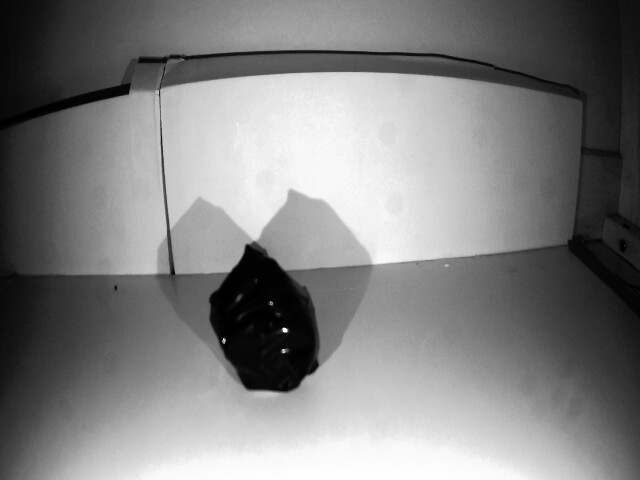black: (206, 259, 346, 418)
